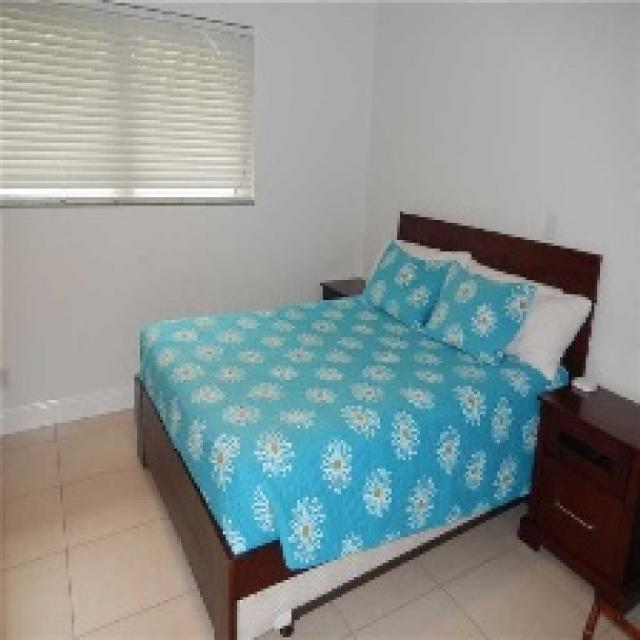Bed: (131, 209, 603, 637)
